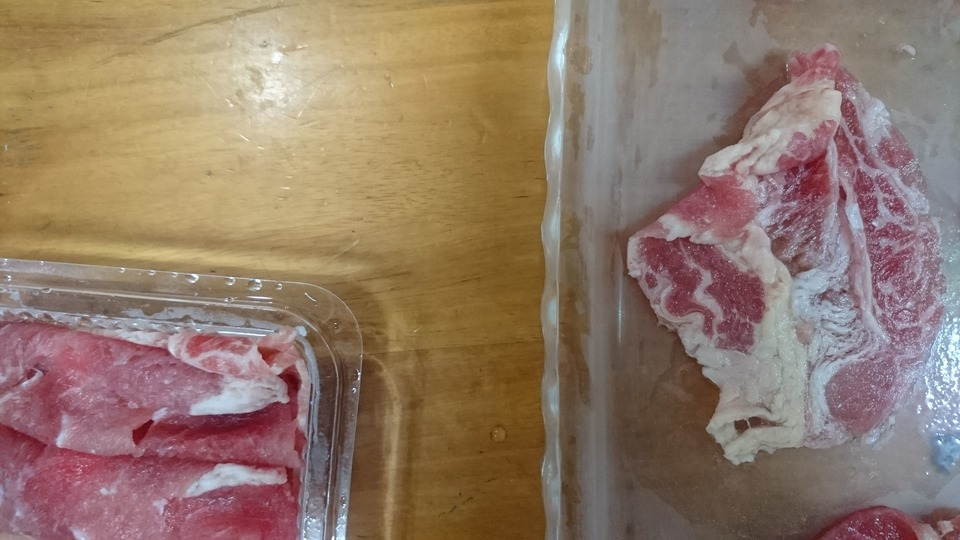restructured meat: (652, 70, 945, 466)
